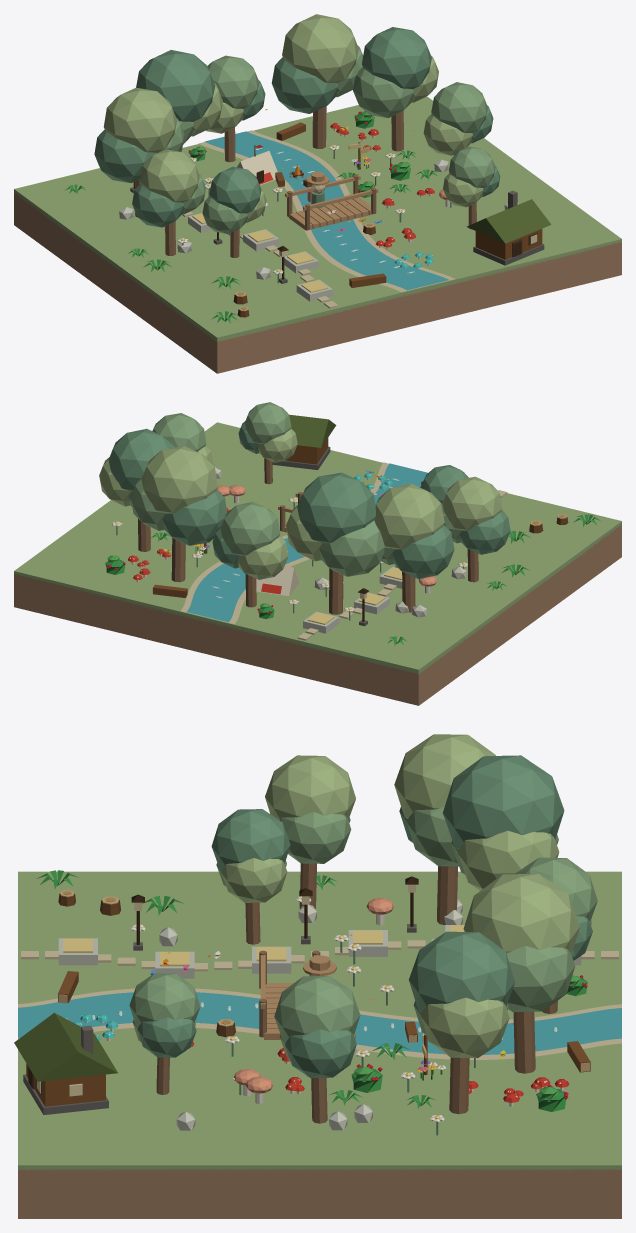
File: forest-v0.glb
3 renders of one model, top to bottom at view 1: azimuth 30°, elevation 25°; view 2: azimuth 150°, elevation 25°; view 3: azimuth 270°, elevation 25°, orthographic. The views are drawn at different scales.
Bounding box in the file's own units: 11.5 × 4.65 × 10.06.
